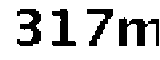1: (47, 7, 81, 50)
3: (9, 6, 43, 50)
7: (81, 4, 115, 53)
m: (116, 14, 160, 51)
